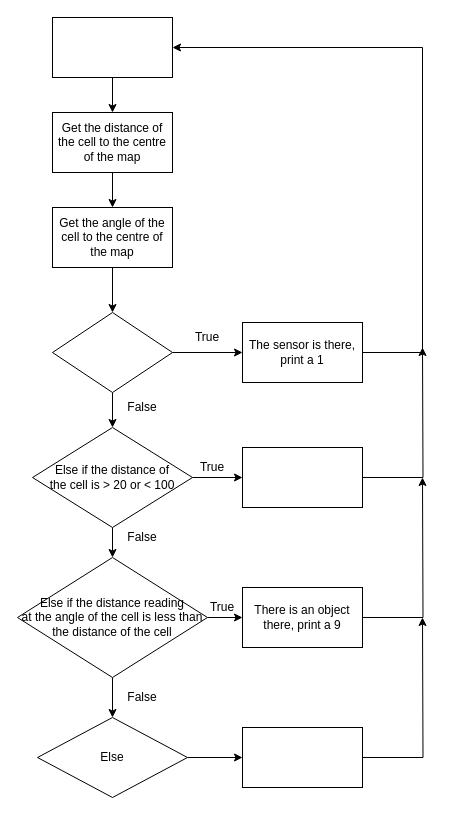
The diagram is 449 pixels wide and 815 high, and some of its shapes have lost their labels. Each missing label, with the centre of its shape:
"For each grid cell" belongs at point (112, 47).
"If the cell is at the centre" belongs at point (112, 352).
"Print a 0" belongs at point (302, 757).
"The cell is out of range, print a 2" belongs at point (302, 477).
